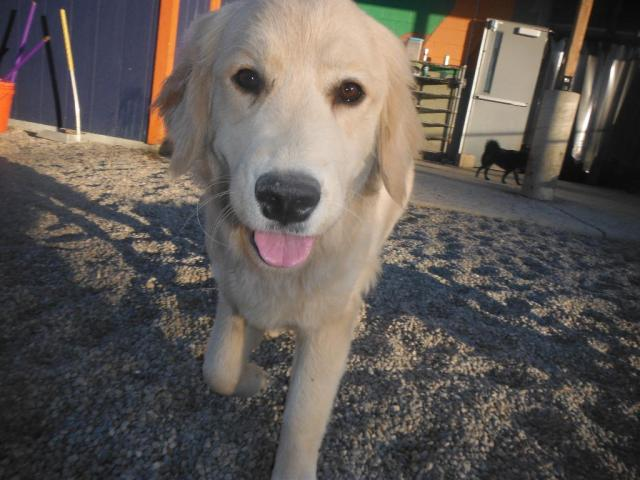Dog: (148, 0, 424, 480), (475, 139, 534, 186)
